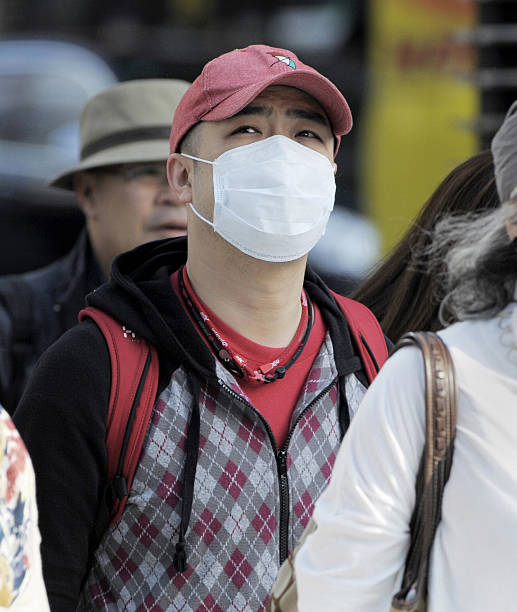mask: (195, 143, 337, 264)
